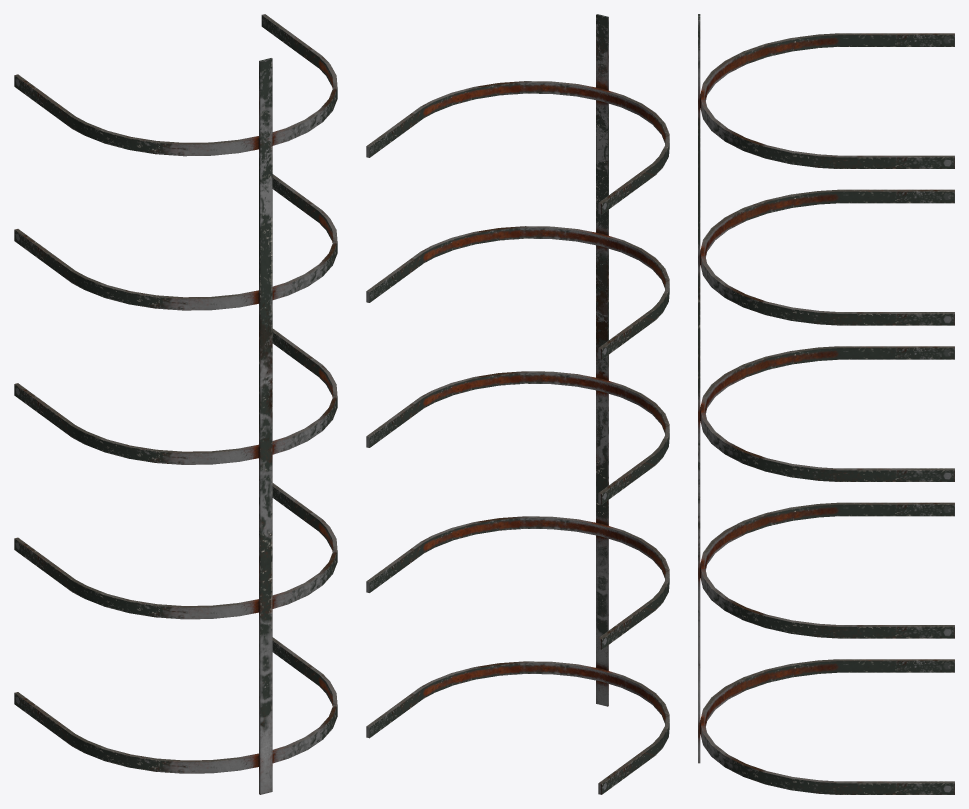
The model's file is SM_Ladder_Rings.FBX.
3 views of the same model, side by side, from view 1: azimuth 30°, elevation 25°; view 2: azimuth 150°, elevation 25°; view 3: azimuth 270°, elevation 25° (orthographic). The views are drawn at different scales.
Visible parts, largest first — view 1: SM_Ladder_Rings_LOD0; view 2: SM_Ladder_Rings_LOD0; view 3: SM_Ladder_Rings_LOD0.
Part boxes in pixels (x1,y1,x2,y2): SM_Ladder_Rings_LOD0: (14, 14, 337, 794); SM_Ladder_Rings_LOD0: (366, 14, 669, 794); SM_Ladder_Rings_LOD0: (698, 14, 954, 794).
Size of the model in its own units: 68 by 59.47 by 190.
